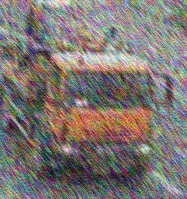truck: (0, 0, 178, 182)
